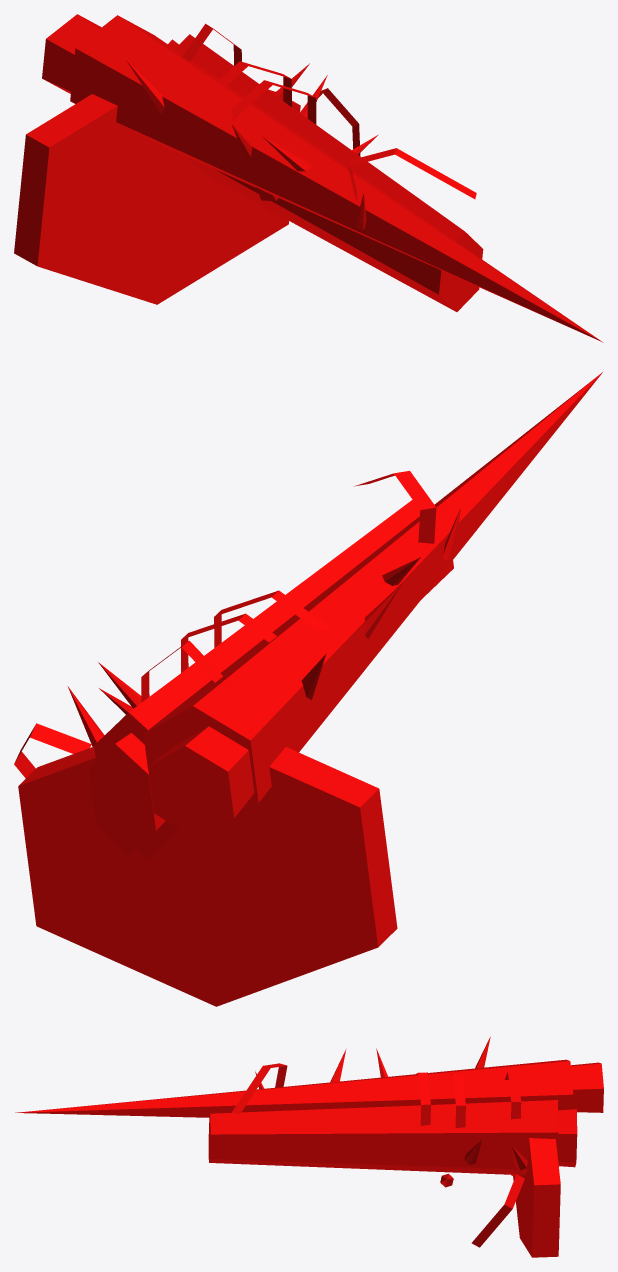
File: gun-Model.obj
The picture shows the model from 3 angles, top to bottom: view 1: azimuth 30°, elevation 25°; view 2: azimuth 150°, elevation 25°; view 3: azimuth 270°, elevation 25°; orthographic projection. The views are drawn at different scales.
Parts seen in each view (by area): view 1: Cone.010_Cone.001; view 2: Cone.010_Cone.001; view 3: Cone.010_Cone.001.
Part boxes in pixels (x1,y1,x2,y2): Cone.010_Cone.001: [14, 14, 603, 342]; Cone.010_Cone.001: [14, 372, 602, 1006]; Cone.010_Cone.001: [15, 1036, 603, 1257].
Size of the model in its own units: 0.3496 by 0.2909 by 0.8278.
